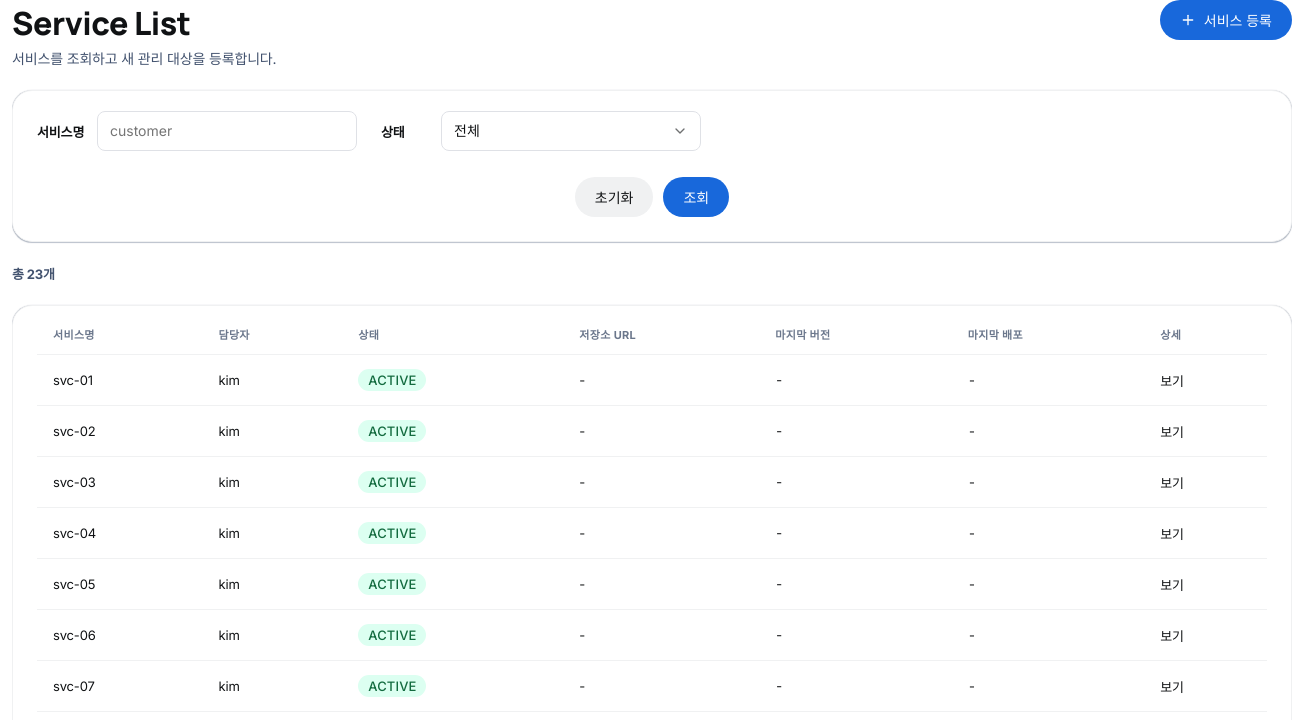
Scenario: ServiceList URL query state › commits the applied filter to the URL on 조회
Type "payments" into the field with placeholder "customer" at [227, 131], box left=97, top=111, right=357, bottom=151
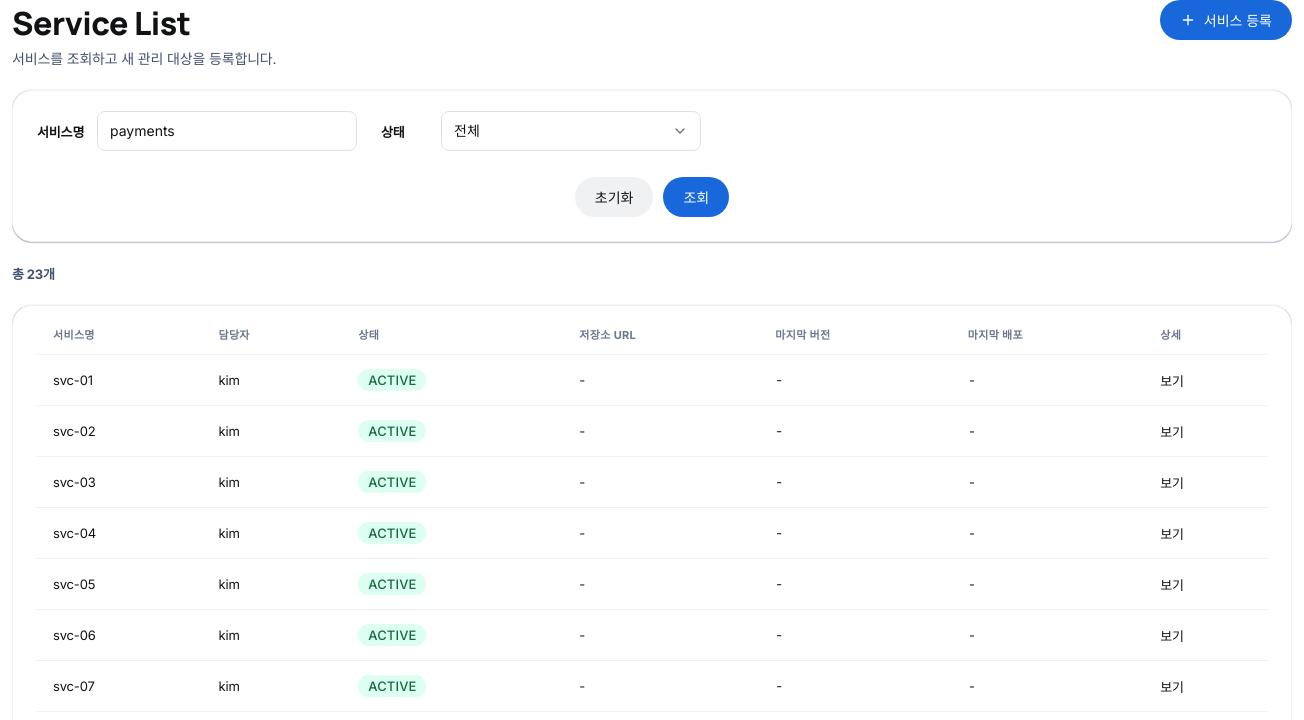
Click the button "조회" at [696, 197], box left=663, top=177, right=729, bottom=217
(page scrolled)
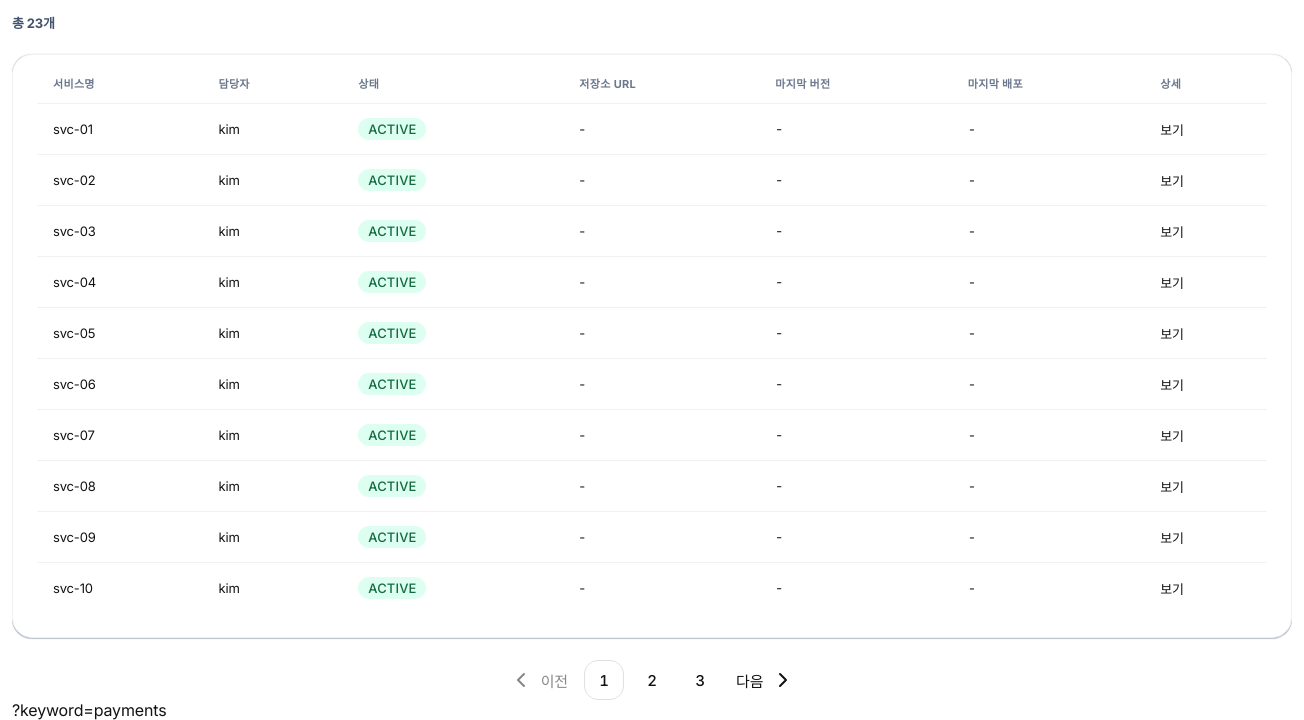
Now the text with test id "search" reads "?keyword=payments", box left=12, top=700, right=166, bottom=719
